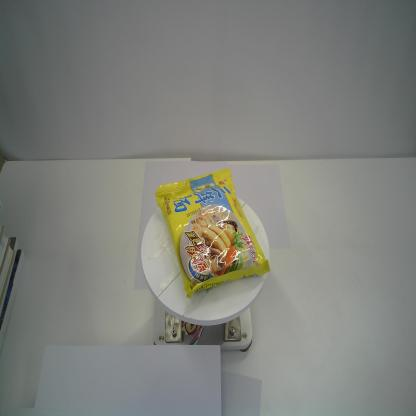Instant Noodles: (152, 166, 270, 299)
